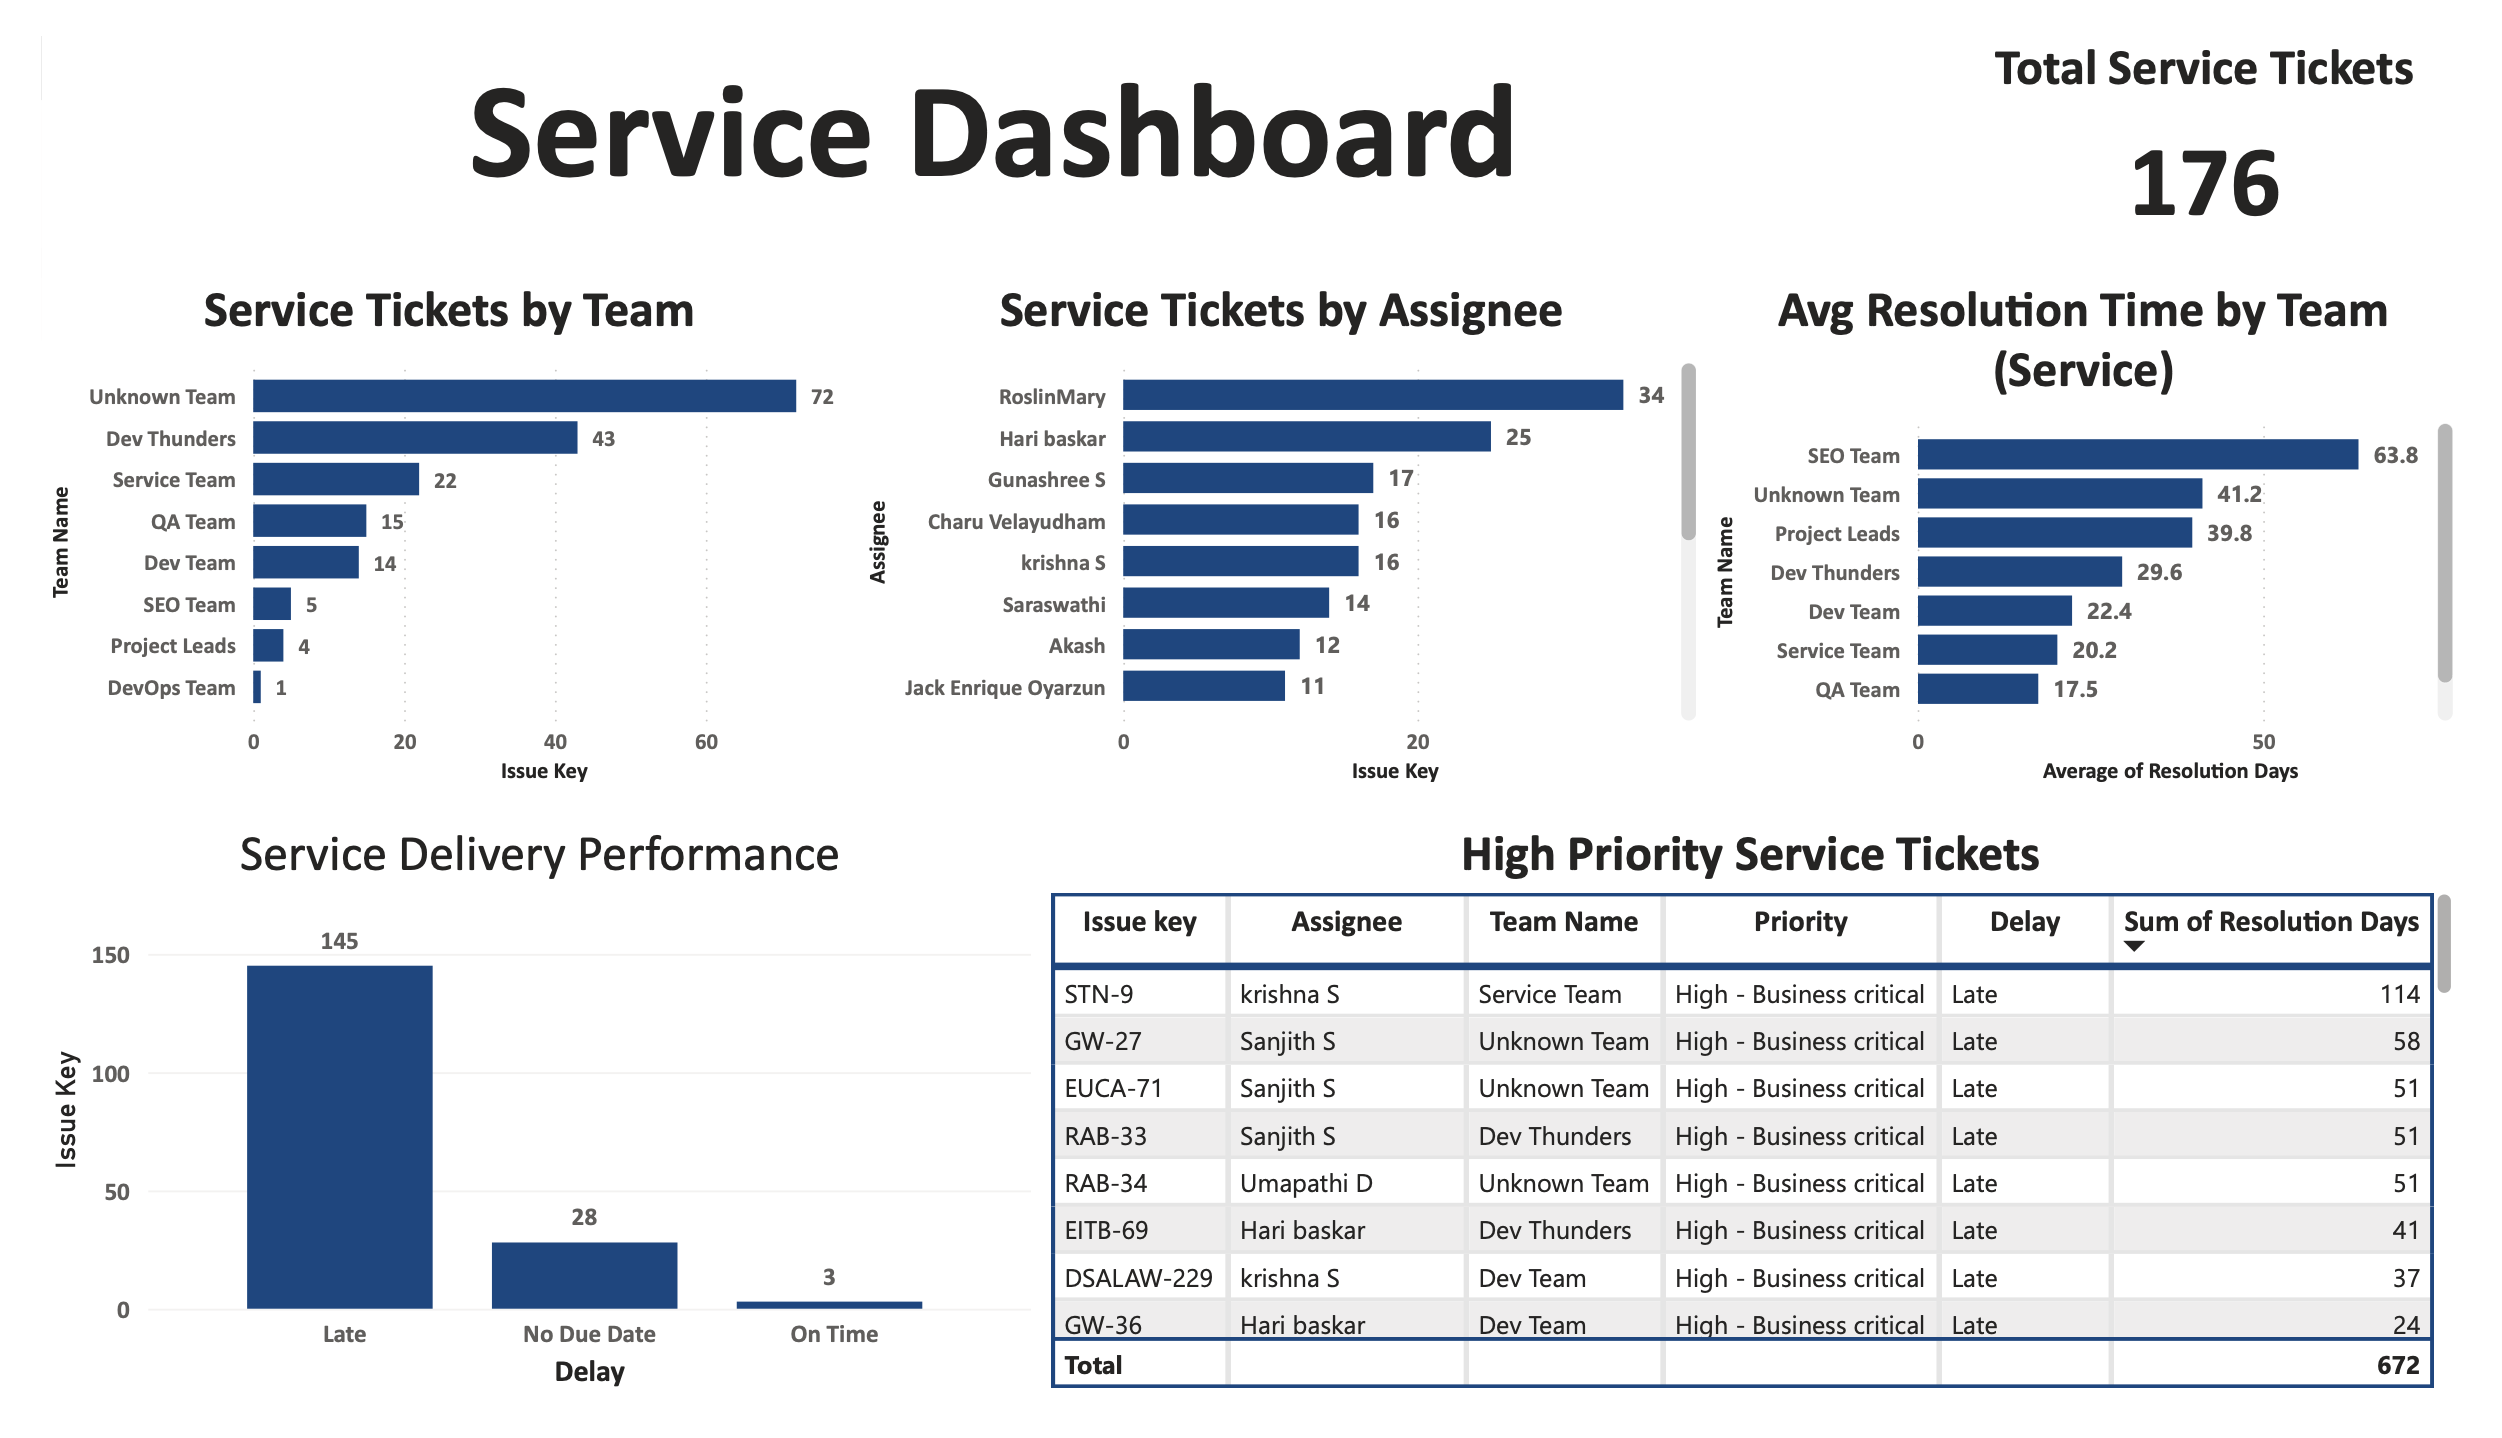

The dashboard page shown, as its layout file describes it:
{"tool":"powerbi","page":{"name":"Service Dashboard","canvas":[1280,720],"ordinal":1},"visuals":[{"type":"card","title":"Total Service Tickets","fields":{"Values":["Count(Jira Data.Issue key)"]},"box":[1008,0,272,112],"z":0},{"type":"clusteredBarChart","title":"Service Tickets by Team","fields":{"Category":["Jira Data.Team Name"],"Y":["Count(Jira Data.Issue key)"]},"box":[0,128,432,272],"z":1000},{"type":"clusteredBarChart","title":"Service Tickets by Assignee","fields":{"Category":["Jira Data.Assignee"],"Y":["Count(Jira Data.Issue key)"]},"box":[432,128,448,272],"z":2000},{"type":"clusteredColumnChart","title":"Service Delivery Performance","fields":{"Category":["Jira Data.Delay"],"Y":["Count(Jira Data.Issue key)"]},"box":[0,416,528,304],"z":3000},{"type":"clusteredBarChart","title":"Avg Resolution Time by Team (Service)","fields":{"Category":["Jira Data.Team Name"],"Y":["Avg(Jira Data.Resolution Days)"]},"box":[880,128,400,272],"z":4000},{"type":"tableEx","title":"High Priority Service Tickets","fields":{"Values":["Jira Data.Issue key","Jira Data.Assignee","Jira Data.Team Name","Jira Data.Priority","Jira Data.Delay","Sum(Jira Data.Resolution Days)"]},"box":[528,416,752,304],"z":5000},{"type":"textbox","box":[0,0,1008,112],"z":6000}]}

Visuals, with their boxes in screenshot pixels (x1, y1, x2, y2), scaled from the page's 1280x720 canvas onto the 2502x1438 screenshot:
"Total Service Tickets" card: <bbox>1970, 0, 2501, 224</bbox>
"Service Tickets by Team" clusteredBarChart: <bbox>0, 256, 844, 799</bbox>
"Service Tickets by Assignee" clusteredBarChart: <bbox>844, 256, 1720, 799</bbox>
"Service Delivery Performance" clusteredColumnChart: <bbox>0, 831, 1032, 1437</bbox>
"Avg Resolution Time by Team (Service)" clusteredBarChart: <bbox>1720, 256, 2501, 799</bbox>
"High Priority Service Tickets" tableEx: <bbox>1032, 831, 2501, 1437</bbox>
textbox: <bbox>0, 0, 1970, 224</bbox>
